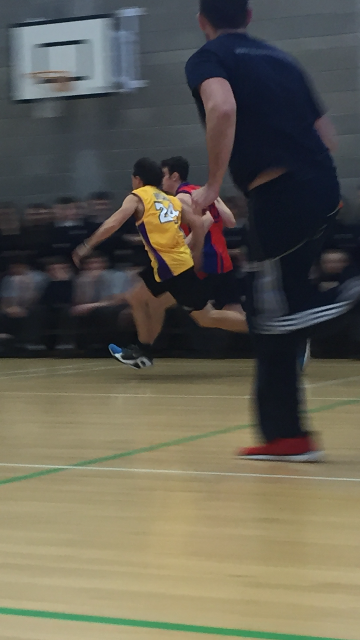basket: (16, 69, 78, 120)
player: (177, 2, 357, 465), (72, 157, 261, 370)
